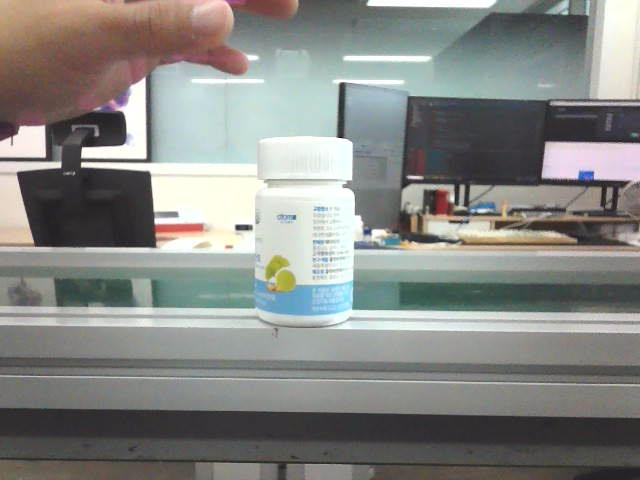labeled: (252, 128, 356, 330)
